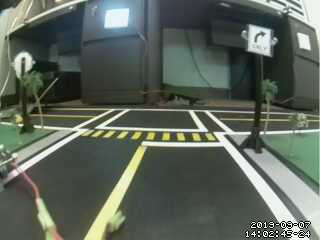Right_only_sign: (246, 21, 272, 56)
